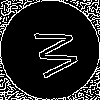W: (25, 25, 80, 82)
